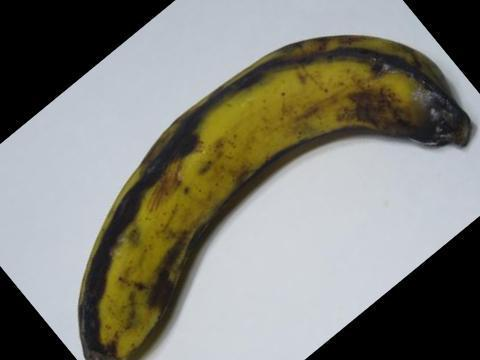overripe: (60, 24, 470, 359)
rotten: (366, 57, 477, 159)
